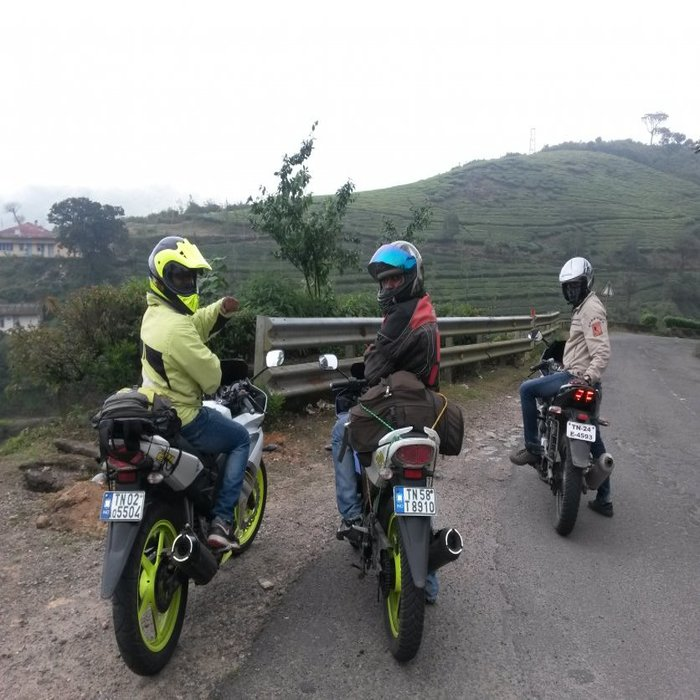h: (147, 236, 212, 317), (366, 238, 427, 311), (557, 256, 596, 303)
n: (99, 488, 146, 523), (392, 483, 437, 519), (564, 421, 597, 442)
